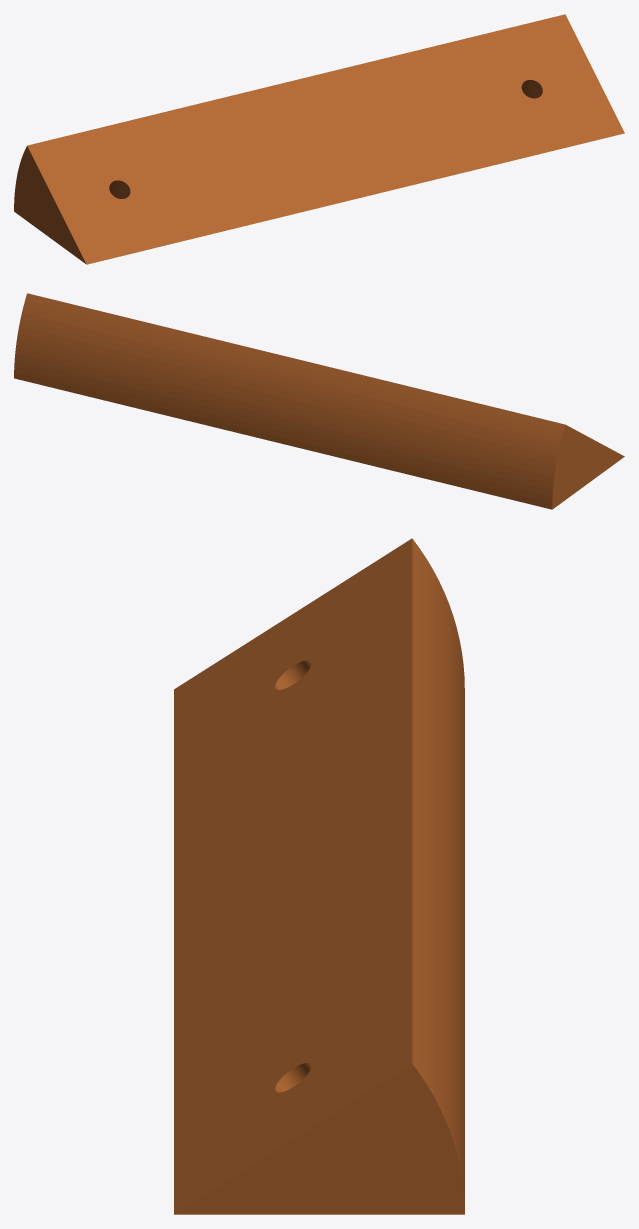
File: camera_corner.dae
3 views of the same model, one above another, from view 1: azimuth 30°, elevation 25°; view 2: azimuth 150°, elevation 25°; view 3: azimuth 270°, elevation 25° (orthographic). The views are drawn at different scales.
Parts seen in each view (by area): view 1: node0; view 2: node0; view 3: node0.
Part boxes in pixels (left/top/right/bottom): node0: left=14, top=14, right=624, bottom=264; node0: left=14, top=293, right=624, bottom=509; node0: left=174, top=538, right=464, bottom=1214.
Bounding box in the file's own units: 0.124 × 0.029 × 0.0166.
